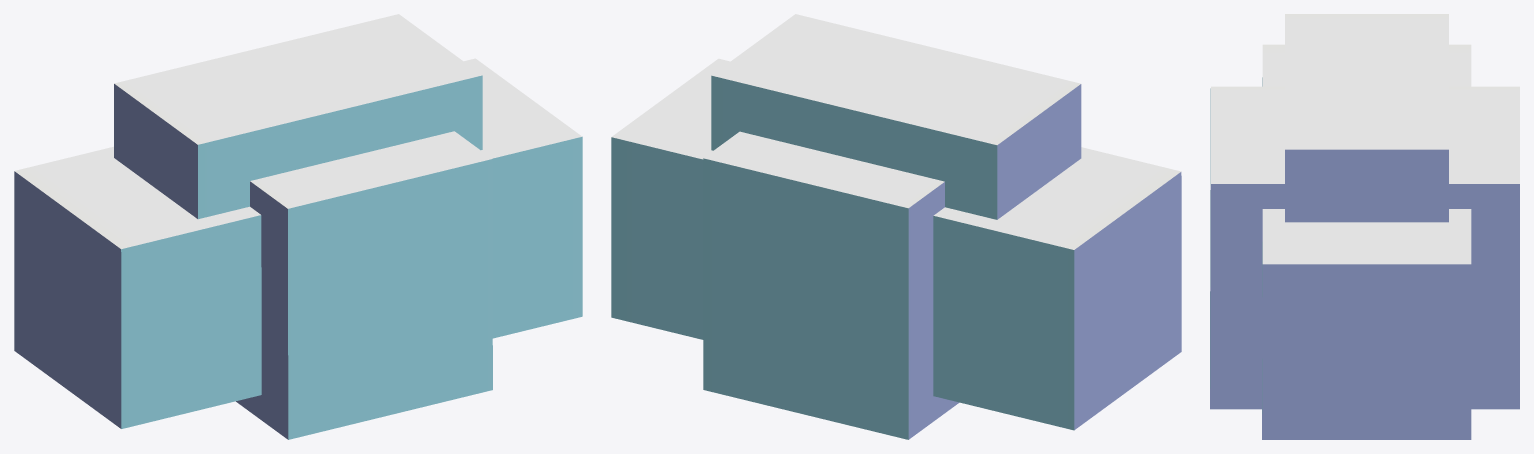
The model's file is cloud2.FBX.
3 views of the same model, side by side, from view 1: azimuth 30°, elevation 25°; view 2: azimuth 150°, elevation 25°; view 3: azimuth 270°, elevation 25° (orthographic). The views are drawn at different scales.
Visible parts, largest first — view 1: cloud2; view 2: cloud2; view 3: cloud2.
Boxes of the visible parts, left/top/right/bottom form: cloud2: left=14, top=14, right=582, bottom=439; cloud2: left=611, top=14, right=1181, bottom=439; cloud2: left=1210, top=14, right=1519, bottom=439.
Bounding box in the file's own units: 246 × 146 × 142.
